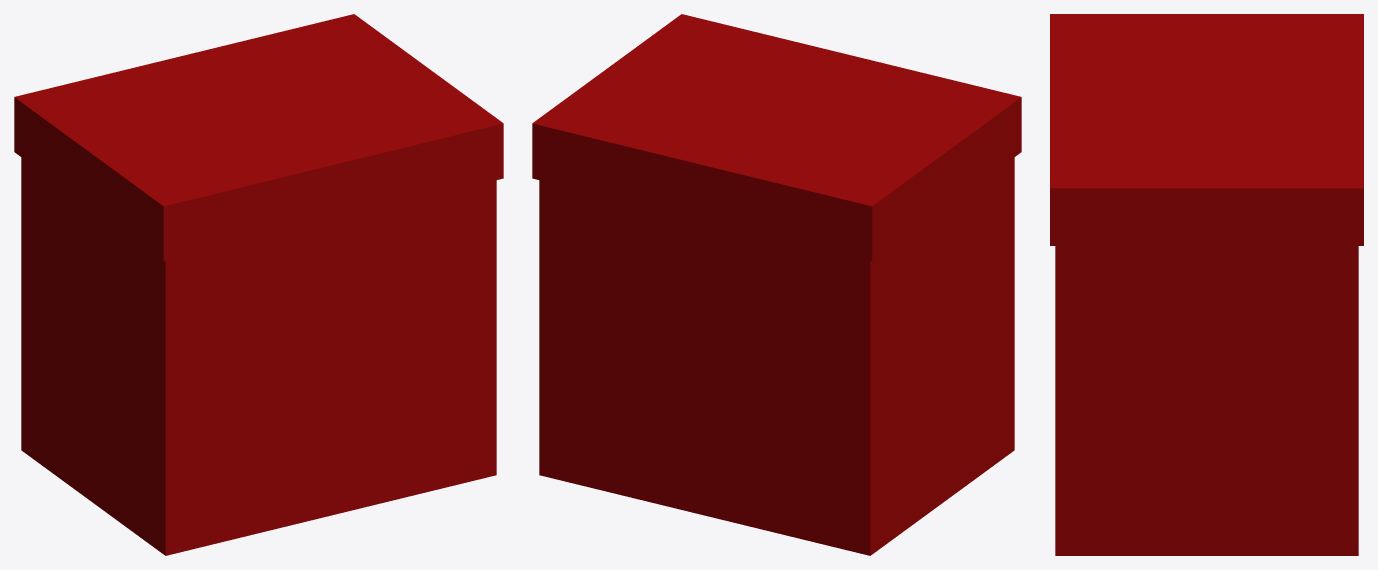
File: Paper_Box_06.FBX
The picture shows the model from 3 angles, left to right: view 1: azimuth 30°, elevation 25°; view 2: azimuth 150°, elevation 25°; view 3: azimuth 270°, elevation 25°; orthographic projection. The views are drawn at different scales.
Parts seen in each view (by area): view 1: Paper_Box_06; view 2: Paper_Box_06; view 3: Paper_Box_06.
Part boxes in pixels (x1,y1,x2,y2): Paper_Box_06: [14, 14, 503, 555]; Paper_Box_06: [532, 14, 1021, 555]; Paper_Box_06: [1050, 14, 1363, 555].
Size of the model in its own units: 75.17 by 57.25 by 74.46.
